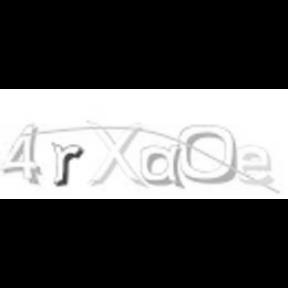4: (1, 122, 43, 184)
O: (178, 122, 236, 184)
X: (86, 116, 144, 188)
a: (138, 142, 184, 188)
e: (234, 143, 274, 185)
r: (50, 142, 84, 188)
